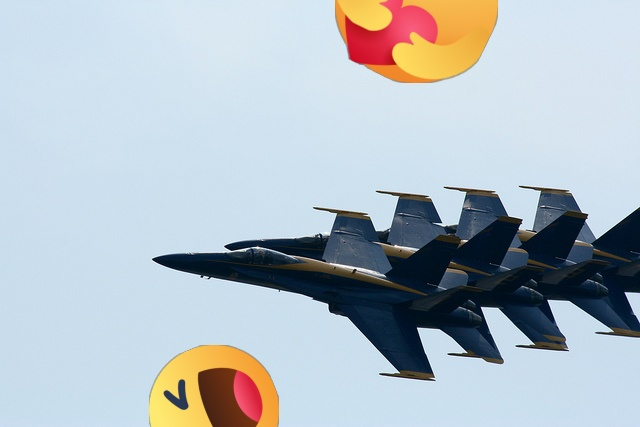care: (335, 0, 498, 83)
haha: (149, 345, 279, 427)
